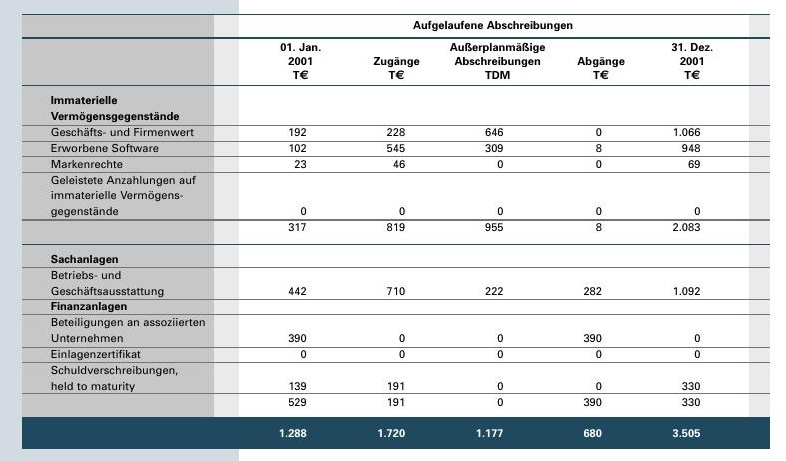table: (0, 0, 786, 461)
